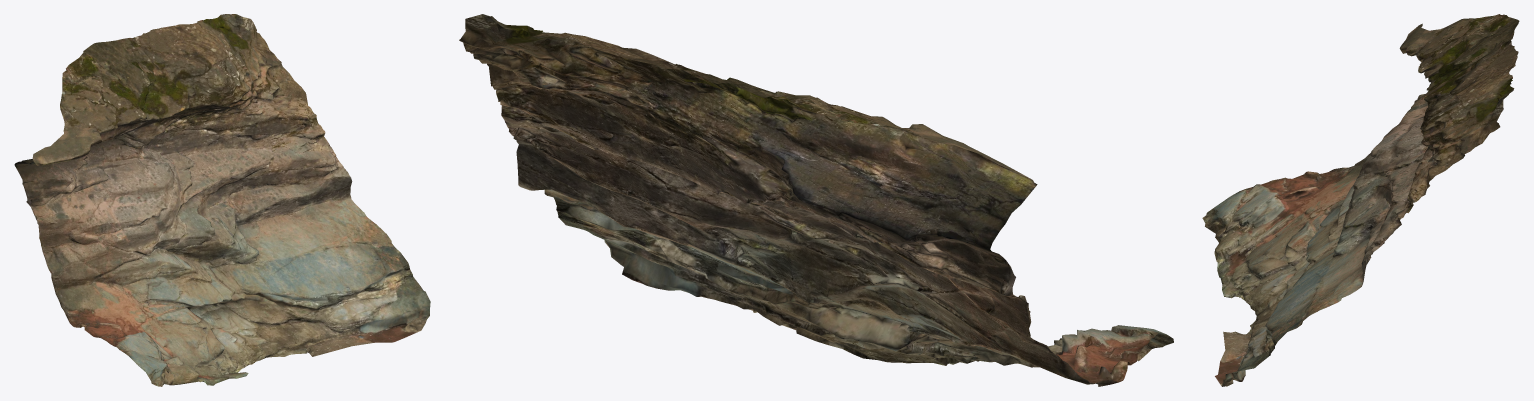
File: vach-da-1.glb
The picture shows the model from 3 angles, left to right: view 1: azimuth 30°, elevation 25°; view 2: azimuth 150°, elevation 25°; view 3: azimuth 270°, elevation 25°; orthographic projection. The views are drawn at different scales.
Parts seen in each view (by area): view 1: rock_face_01; view 2: rock_face_01; view 3: rock_face_01.
Boxes of the visible parts, box(x1,y1,x2,y2) form: rock_face_01: box(14, 14, 430, 386); rock_face_01: box(459, 14, 1173, 386); rock_face_01: box(1202, 14, 1519, 386).
Size of the model in its own units: 1 by 0.7192 by 0.7727.
Materials: 1 (1 with a texture image).
